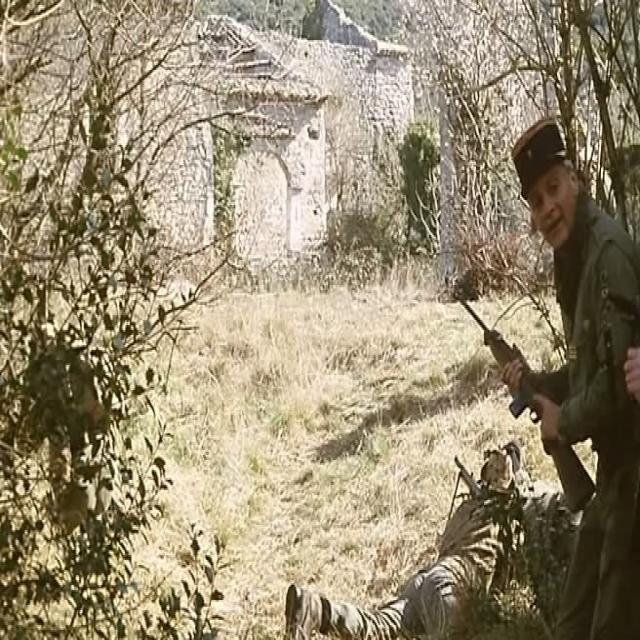gun-knife-thesis - v11 Yolov5 augmented: (445, 272, 602, 506)
